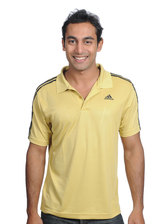clothoes: (26, 61, 144, 218)
